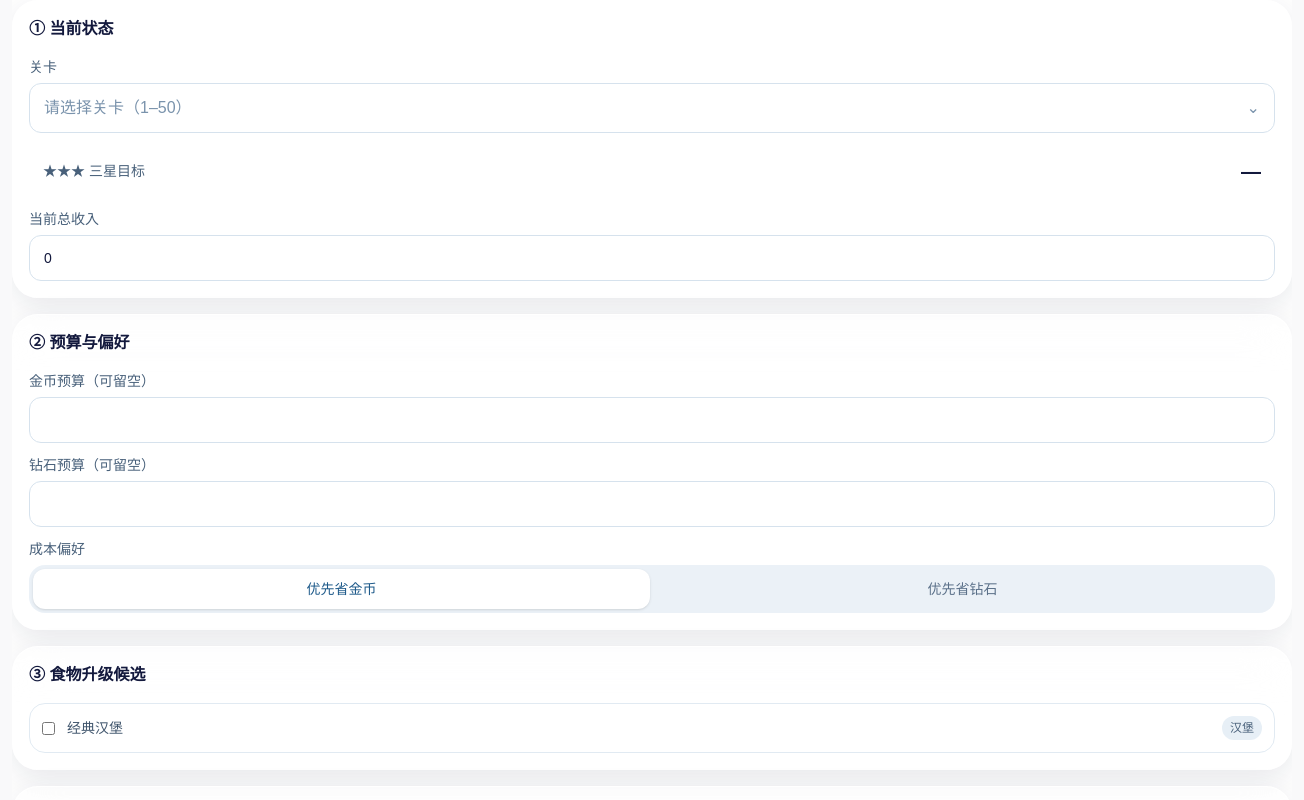
Test case: CalculatorForm › reveals numeric food fields only after that food is selected
Expected: the field labelled "经典汉堡收入增量" is not shown
Click the checkbox named "选择经典汉堡". click: (48, 728)
box: 42,722 -> 55,734
(page scrolled)
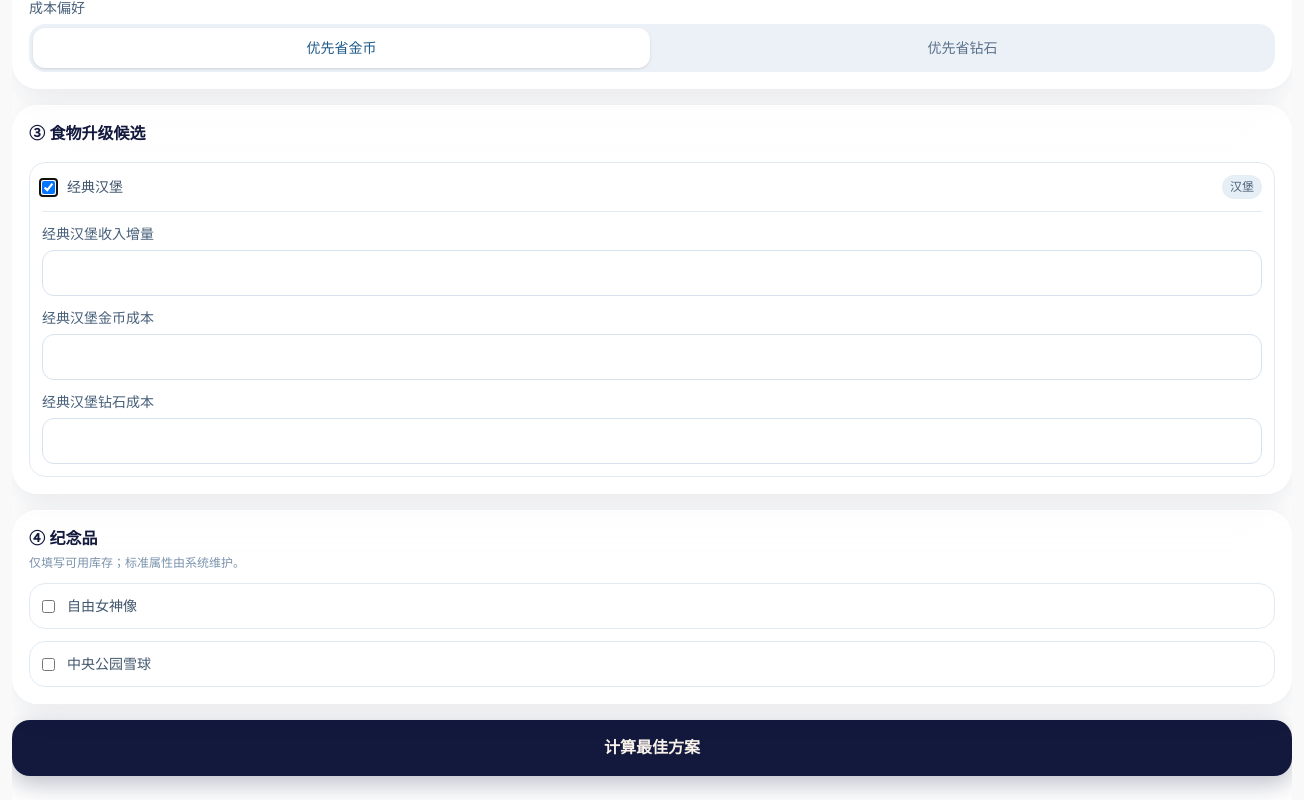
Result: the number field labelled "经典汉堡收入增量" is shown at 42,250 -> 1262,296
Result: the number field labelled "经典汉堡金币成本" is shown at 42,334 -> 1262,380
Result: the number field labelled "经典汉堡钻石成本" is shown at 42,418 -> 1262,464
